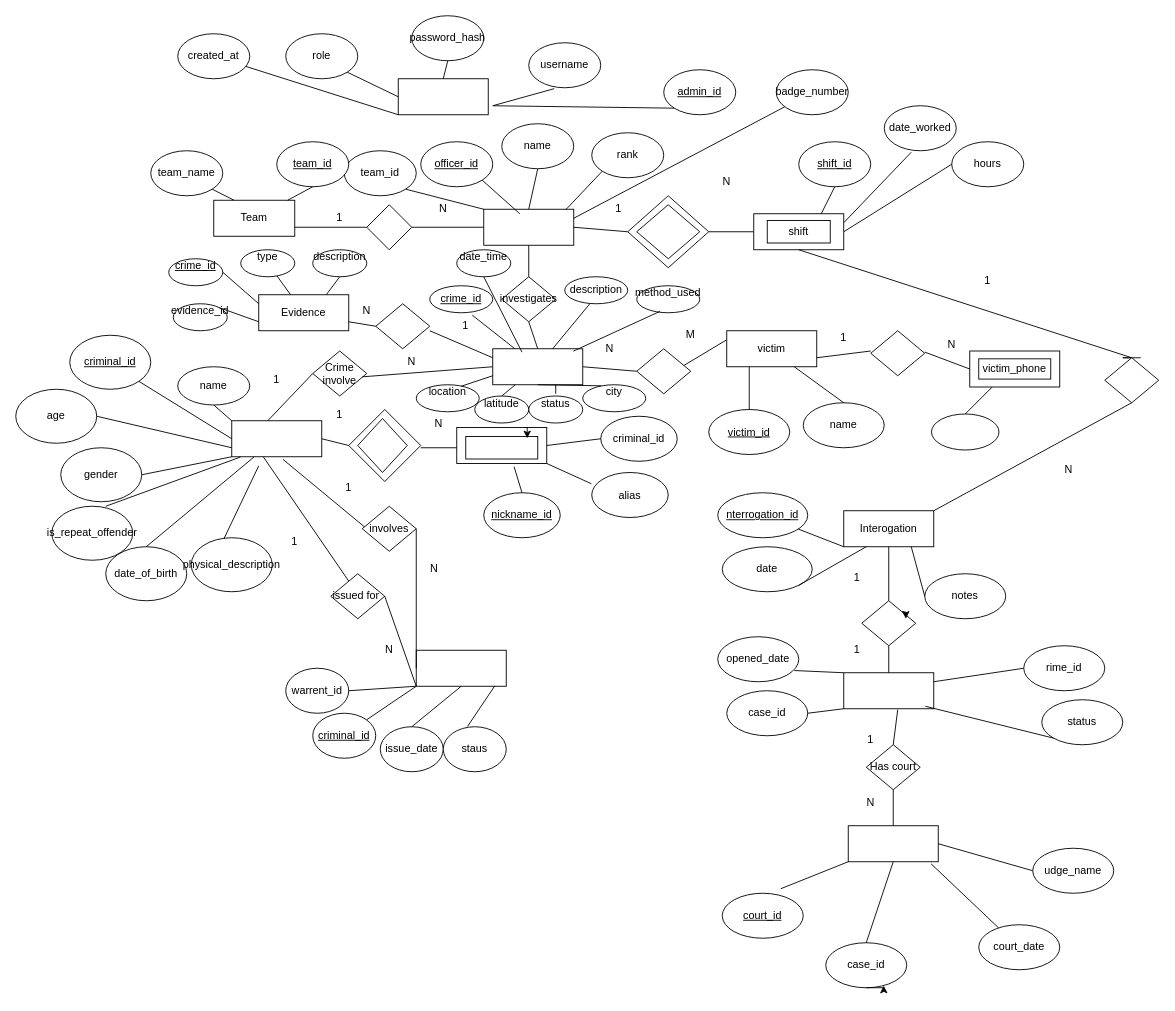
Some shapes in this 1175 by 1011 pixel diagram are drawn without their labels. The shapes that lost their labels are listed below. From the top down, each one's centre as x and y in pixels, then its label:
(x=442, y=96): Admin
(x=389, y=227): belongs to
(x=528, y=226): Officer
(x=668, y=231): has shift
(x=402, y=326): has evidence
(x=537, y=366): crime
(x=663, y=371): crime_victim
(x=897, y=353): has phone
(x=1131, y=380): iconducted by
(x=276, y=438): Crimimal
(x=382, y=445): has
(x=501, y=447): Nickname
(x=965, y=431): phone_number
(x=888, y=623): For Crime
(x=460, y=667): warrent
(x=888, y=690): Case Record
(x=892, y=843): Court
